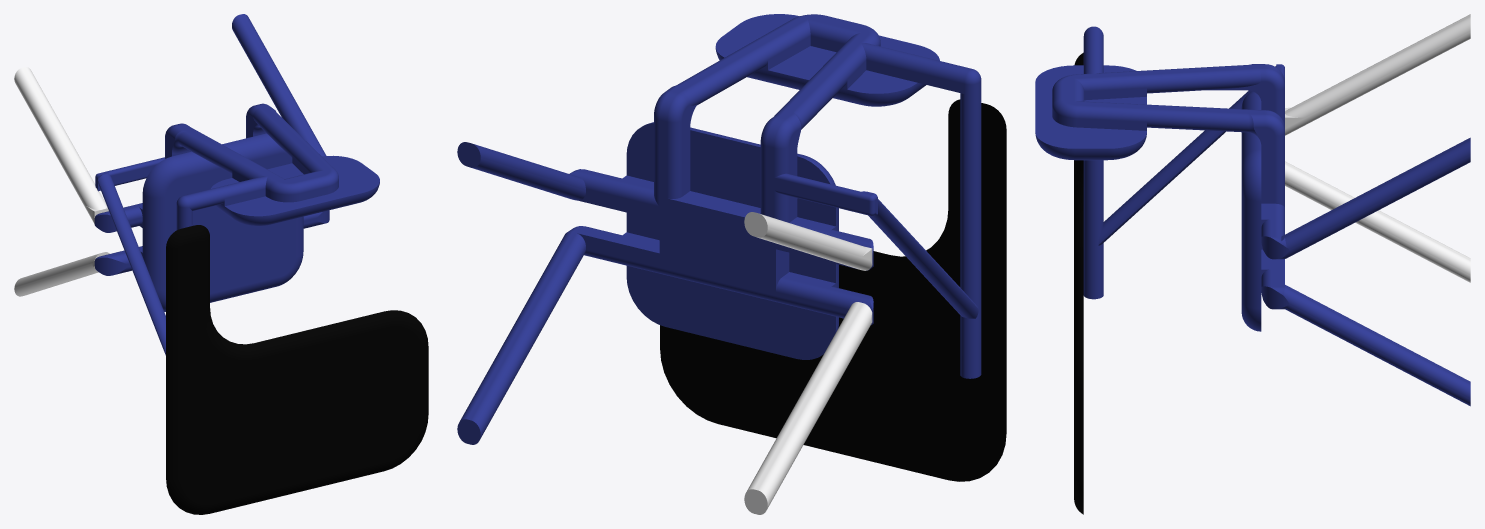
Rendered from Chair_6W8 v7.fbx.
3 views of the same model, side by side, from view 1: azimuth 30°, elevation 25°; view 2: azimuth 150°, elevation 25°; view 3: azimuth 270°, elevation 25° (orthographic). The views are drawn at different scales.
Visible parts, largest first — view 1: Body4, Body1, Body3, Body2; view 2: Body1, Body4, Body2, Body3; view 3: Body1, Body3, Body2, Body4.
Part boxes in pixels (x1,y1,x2,y2): Body4: (166,225,428,514); Body1: (94,14,379,355); Body3: (14,67,108,223); Body2: (14,252,109,296); Body1: (457,14,981,444); Body4: (660,99,1006,481); Body2: (744,302,872,514); Body3: (744,212,872,270); Body1: (1035,26,1470,406); Body3: (1285,14,1470,135); Body2: (1285,161,1470,282); Body4: (1074,52,1083,514).
Size of the model in its own units: 89.35 by 107 by 110.
